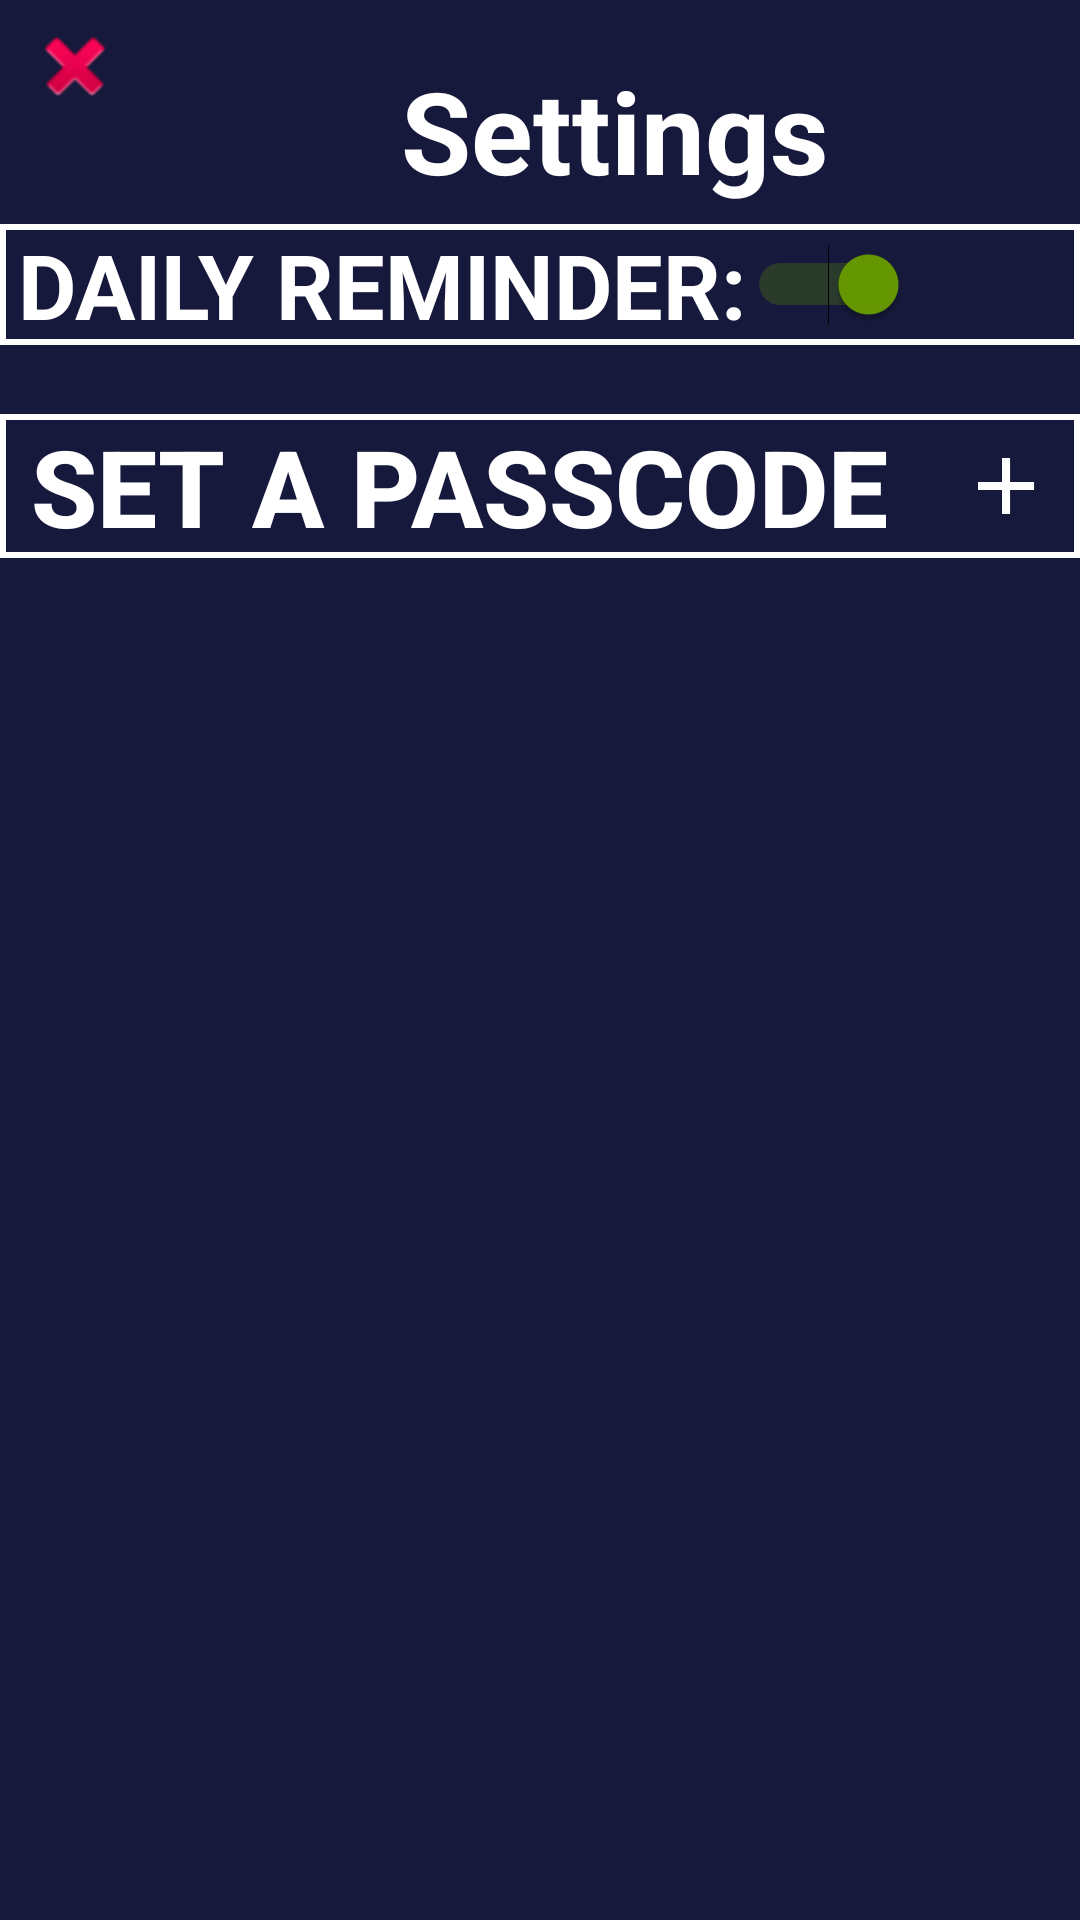

Named icons in this screenshot (1080w x 1920h) and their centers, point (x, y):
delete: point (75, 66)
